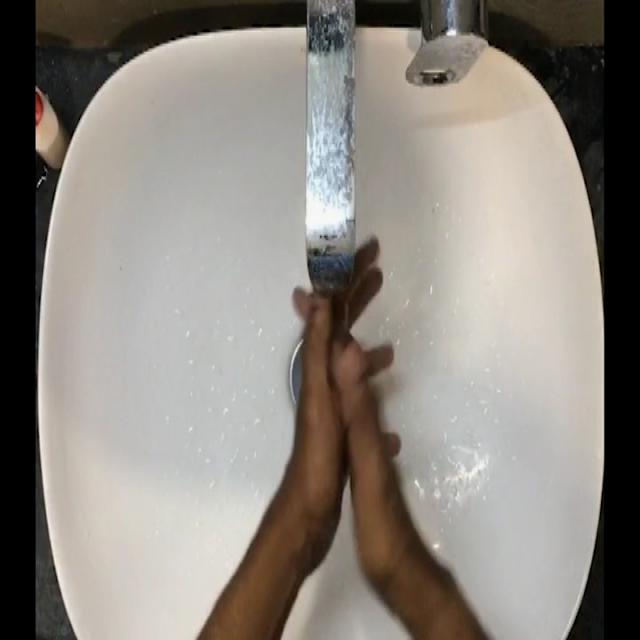step_3: (275, 224, 411, 548)
